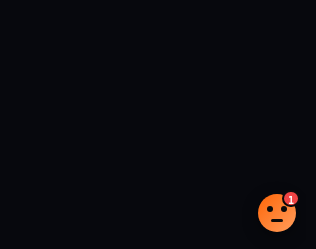
it: Robot Fix List — FE1/FE2/FE3/F3 › FE2 — switching projects clears items immediately, before the new fetch resolves
This screenshot has width=316, height=249.
Later steps or results of the test are not shown.
Click the button with test id "ora-guide-mascot-avatar" at (277, 213), box [258, 194, 296, 232]
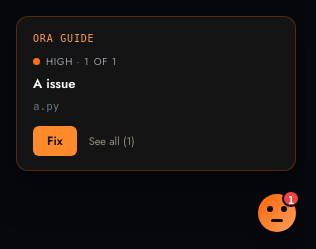
Expected: the text with test id "ora-guide-fixlist-title" reads "A issue", [33, 74, 76, 93]
